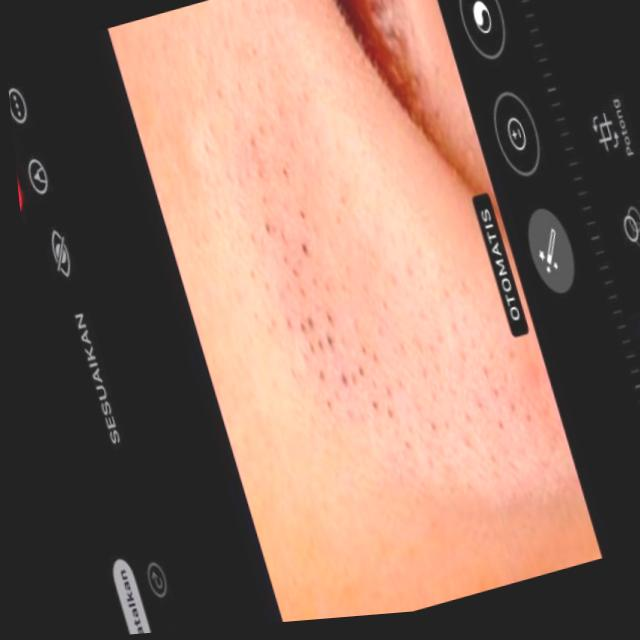blackhead: (234, 104, 437, 512)
